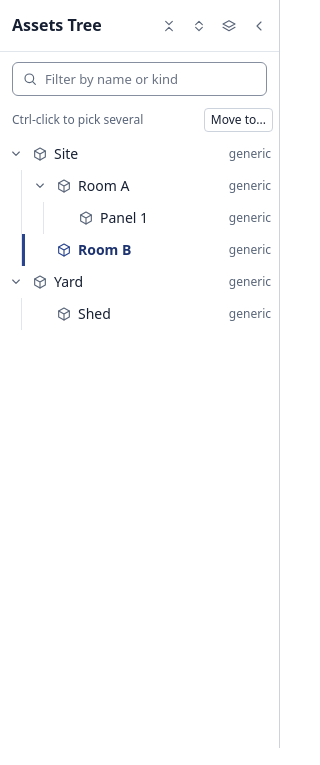
it: the Delete button of the pick bar › is not drawn without a remove prop, picked or not (a role that may not delete)
Click the link "Room A".
click(104, 186)  # box [78,176,129,195]
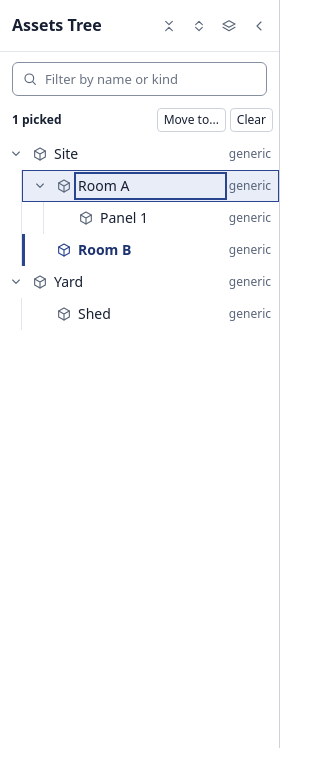
Result: the element named "Selection" shows "1 picked" at [12,111,62,128]
